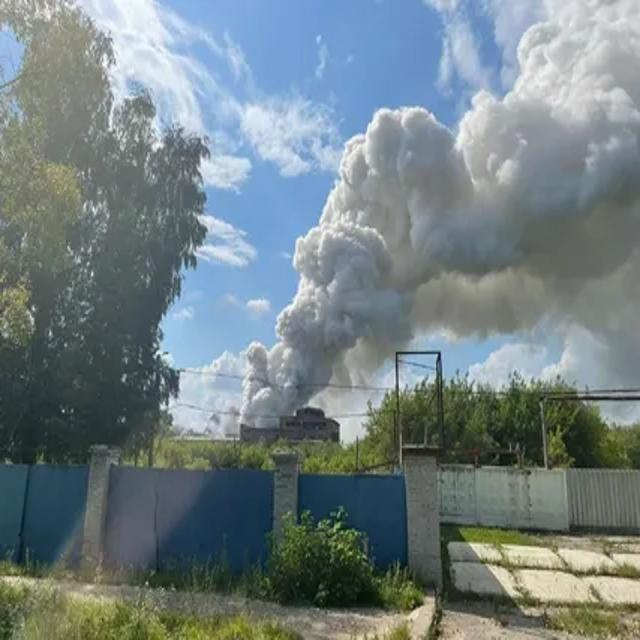Smoke: (243, 2, 640, 429)
